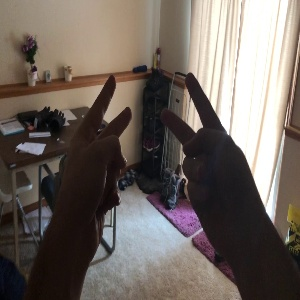hand: (159, 72, 275, 256), (53, 76, 132, 248)
